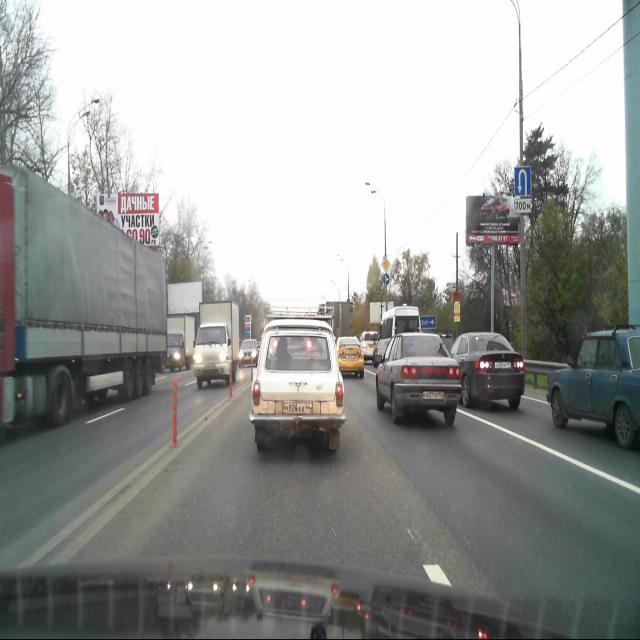road sign: (514, 168, 530, 197), (380, 257, 390, 272)
